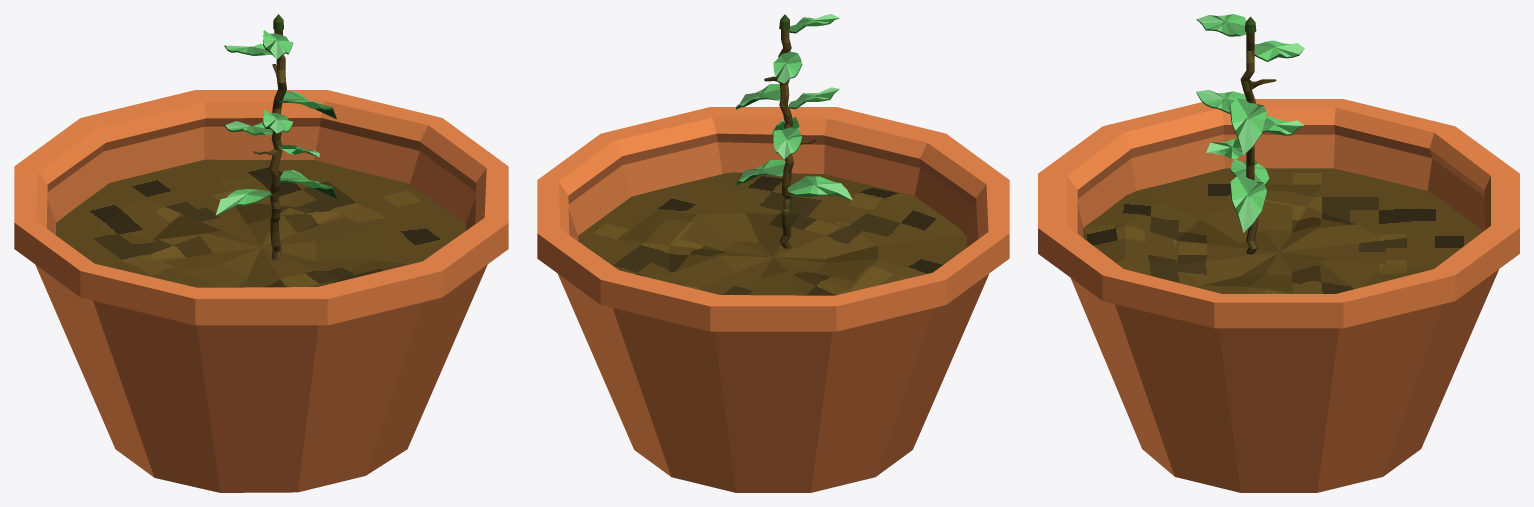
File: plantpot_seedling_second_stage.gltf
The picture shows the model from 3 angles, left to right: view 1: azimuth 30°, elevation 25°; view 2: azimuth 150°, elevation 25°; view 3: azimuth 270°, elevation 25°; orthographic projection. The views are drawn at different scales.
Visible parts, largest first — view 1: pot, soil, Stem_selection, Left Leaf (×3); view 2: pot, soil, Left Leaf (×5), Stem_selection; view 3: pot, soil, Left Leaf (×7), Stem_selection.
Boxes of the visible parts, x1,y1,x2,y2 form: pot: (14,90,508,492); soil: (56,159,465,287); Stem_selection: (253,14,286,259); Left Leaf (×3): (215,30,336,215); pot: (537,107,1009,492); soil: (578,172,966,295); Left Leaf (×5): (736,51,852,200); Stem_selection: (764,14,816,248); pot: (1038,99,1519,492); soil: (1083,168,1481,293); Left Leaf (×7): (1196,14,1304,232); Stem_selection: (1240,16,1276,254).
Bounding box in the file's own units: 2.12 × 2.03 × 2.12.
Materials: 4 (4 with a texture image).
